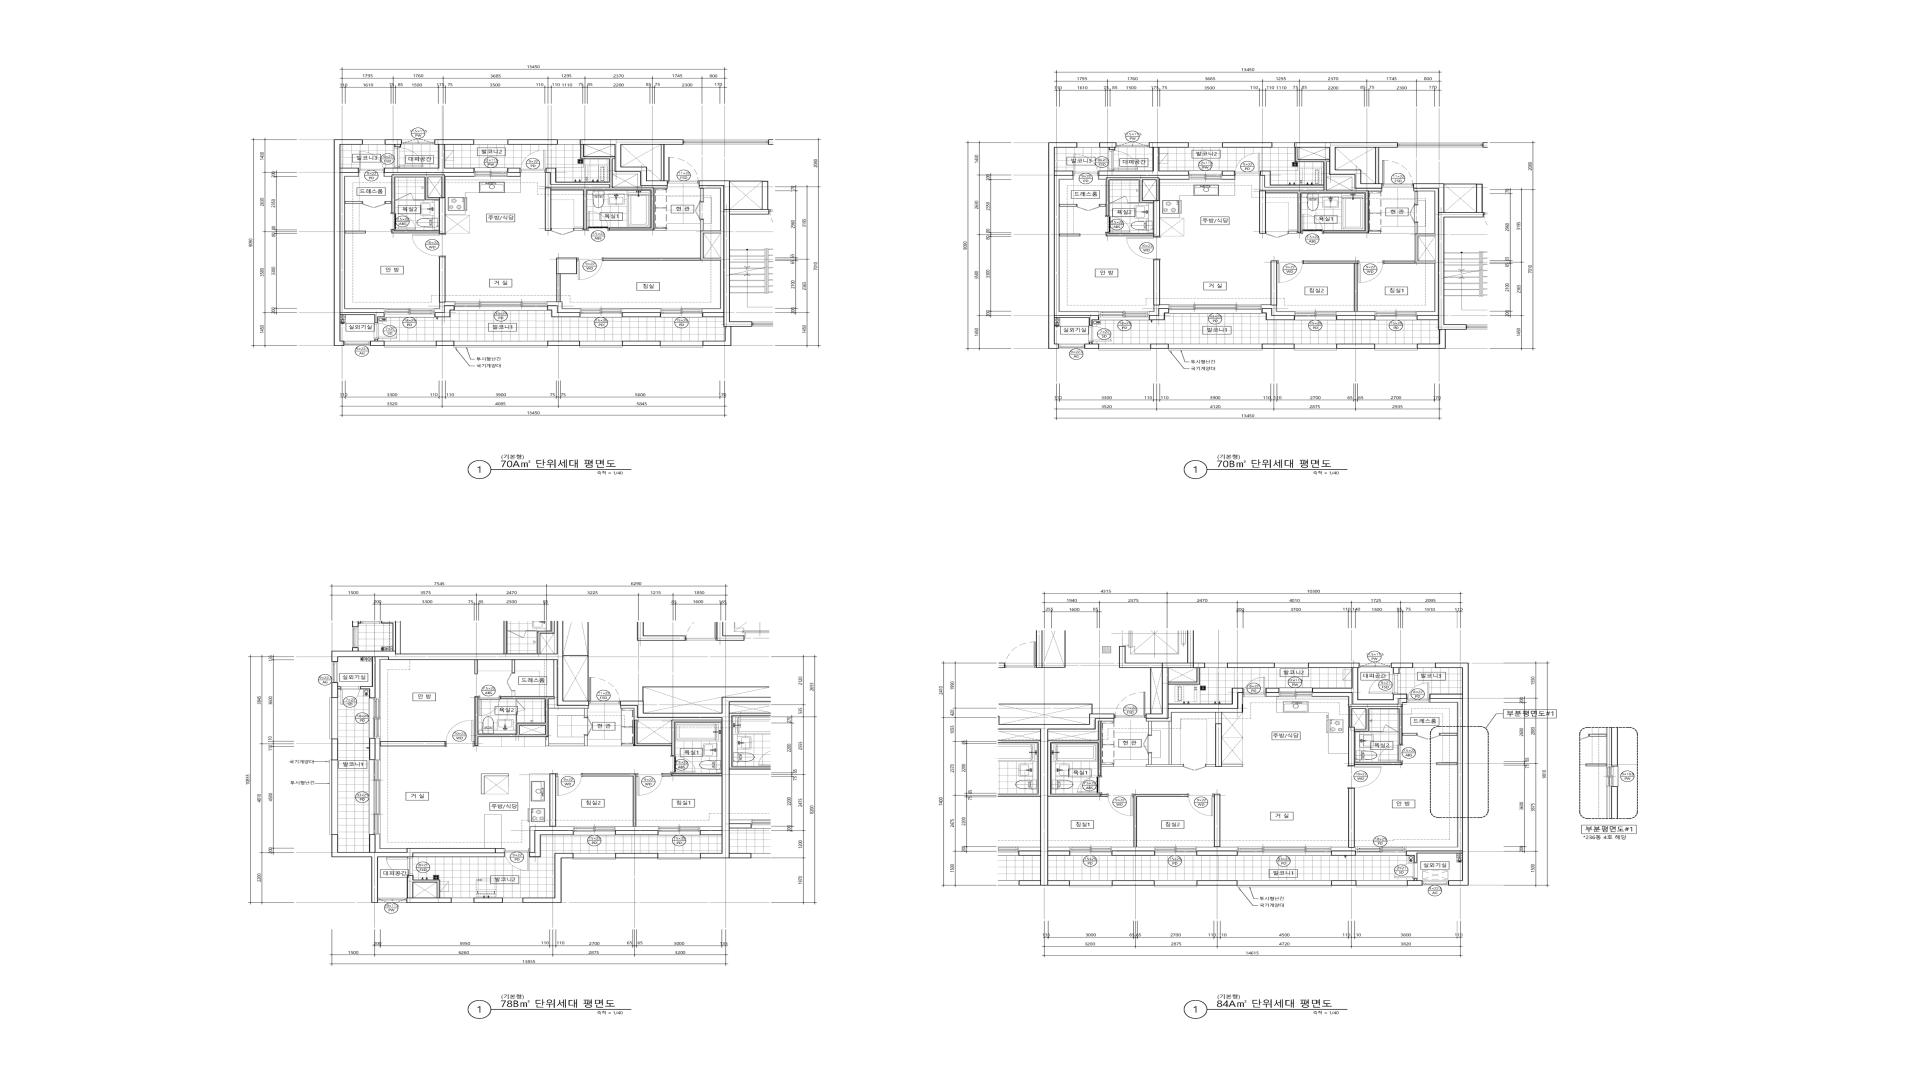door: (1382, 160, 1414, 187), (667, 157, 699, 183), (1126, 236, 1160, 260), (1114, 692, 1146, 717), (413, 233, 446, 257), (446, 720, 475, 746), (589, 678, 620, 703), (1349, 766, 1382, 789), (1109, 150, 1138, 171), (1369, 674, 1399, 694), (1188, 794, 1215, 816), (1108, 794, 1134, 816), (1234, 153, 1261, 175), (520, 150, 546, 173), (394, 148, 423, 167), (1358, 261, 1383, 284), (504, 848, 529, 870), (1278, 261, 1304, 282), (576, 258, 603, 280), (636, 774, 662, 795), (359, 152, 384, 173), (1073, 154, 1098, 175), (556, 774, 582, 795), (386, 857, 413, 876), (1407, 683, 1429, 703), (1244, 676, 1266, 696), (1302, 214, 1324, 233), (587, 211, 609, 231), (477, 696, 500, 716), (671, 756, 695, 774), (1378, 745, 1403, 762), (1077, 777, 1101, 794), (1106, 216, 1130, 233), (392, 214, 415, 229), (1395, 862, 1418, 878), (1089, 326, 1112, 342), (375, 323, 397, 339), (695, 200, 704, 220), (1416, 733, 1440, 740), (1077, 204, 1100, 211), (1266, 231, 1288, 237), (551, 228, 574, 235), (363, 202, 385, 208), (1143, 735, 1151, 753), (1410, 204, 1418, 223), (506, 673, 514, 691), (584, 717, 592, 736), (396, 193, 413, 200), (1183, 765, 1207, 770), (516, 699, 525, 712), (1110, 196, 1127, 203), (1383, 725, 1399, 732)
wall: (331, 621, 589, 705), (620, 698, 729, 858), (1406, 663, 1469, 886), (1040, 713, 1114, 886), (1259, 142, 1398, 233), (331, 835, 504, 903), (1414, 183, 1484, 349), (699, 181, 769, 345), (1048, 142, 1098, 349), (334, 140, 384, 345), (545, 145, 654, 231), (1120, 646, 1244, 719), (1406, 699, 1462, 851), (1146, 692, 1244, 766), (1055, 175, 1098, 315), (340, 173, 384, 313), (603, 220, 720, 261), (580, 140, 683, 186), (1308, 663, 1407, 704), (475, 696, 554, 746), (1349, 707, 1403, 766), (699, 186, 724, 313), (1106, 178, 1160, 236), (1414, 189, 1437, 315), (384, 140, 475, 173), (1098, 142, 1188, 175), (1134, 794, 1188, 847), (582, 774, 636, 827), (1303, 261, 1358, 311), (522, 853, 572, 903), (549, 659, 589, 717), (392, 174, 444, 214), (1327, 162, 1382, 191), (613, 160, 667, 187), (620, 705, 721, 720), (1312, 694, 1407, 707), (406, 876, 451, 903), (529, 831, 574, 857), (529, 827, 574, 852), (1259, 175, 1324, 191), (1048, 719, 1114, 732), (481, 774, 509, 794), (376, 835, 406, 852), (376, 657, 388, 699), (546, 736, 587, 746), (1419, 236, 1436, 261), (1262, 309, 1295, 320), (1168, 669, 1197, 682), (413, 882, 436, 898), (413, 853, 504, 857), (384, 173, 475, 177), (1098, 175, 1188, 179), (1262, 305, 1295, 315), (547, 306, 580, 316), (547, 302, 580, 313), (550, 774, 556, 827), (380, 741, 446, 746), (556, 257, 576, 274), (1349, 789, 1354, 848), (1154, 260, 1160, 306), (1271, 261, 1278, 306), (439, 257, 446, 302), (1352, 709, 1366, 729), (1142, 181, 1156, 200), (1215, 794, 1220, 847), (1216, 724, 1222, 766), (508, 140, 558, 145), (1222, 142, 1273, 148), (1228, 663, 1275, 669), (1391, 663, 1414, 674), (439, 198, 446, 233), (1149, 309, 1168, 320), (1112, 851, 1155, 856), (1112, 881, 1154, 886), (616, 853, 658, 858), (1196, 851, 1237, 856), (1197, 881, 1237, 886), (1336, 315, 1375, 320), (1149, 305, 1168, 315), (435, 306, 455, 316), (435, 302, 455, 313), (1337, 344, 1375, 349), (392, 229, 439, 233), (1112, 847, 1155, 851), (615, 827, 658, 831), (615, 831, 658, 835), (1262, 344, 1294, 349), (1196, 847, 1237, 851), (1336, 311, 1375, 315), (473, 898, 502, 903), (622, 309, 661, 313), (622, 342, 661, 345), (622, 313, 661, 316), (1375, 148, 1379, 183), (661, 145, 665, 181), (331, 738, 338, 760), (369, 738, 376, 760), (385, 140, 402, 148), (1100, 142, 1117, 150), (331, 683, 340, 698), (1332, 881, 1356, 886), (1407, 878, 1423, 886), (1332, 851, 1356, 856), (547, 342, 579, 345), (1084, 342, 1098, 349), (508, 167, 520, 177), (556, 274, 560, 302), (1332, 847, 1356, 851), (1151, 344, 1168, 349), (371, 339, 384, 345), (1048, 847, 1069, 851), (376, 738, 380, 760), (700, 827, 721, 831), (1383, 261, 1415, 264), (436, 342, 454, 345), (1150, 669, 1151, 713), (1266, 688, 1279, 692), (1266, 692, 1279, 696), (345, 231, 365, 233), (700, 189, 704, 202), (1222, 175, 1234, 179), (1222, 171, 1234, 175), (345, 202, 363, 204), (1444, 183, 1477, 185), (731, 181, 762, 182), (475, 659, 477, 674), (1403, 733, 1416, 736), (621, 744, 634, 746), (512, 659, 514, 673), (1369, 231, 1381, 233), (654, 228, 666, 231), (1222, 765, 1244, 766), (574, 228, 584, 231), (1288, 231, 1298, 233), (1101, 765, 1114, 766), (1100, 204, 1106, 207), (385, 202, 392, 204), (413, 199, 425, 200), (512, 691, 514, 696), (516, 712, 517, 723), (1207, 765, 1216, 766), (1370, 732, 1383, 732), (1127, 203, 1139, 203)
window: (1237, 847, 1332, 856), (1168, 305, 1262, 314), (369, 760, 380, 835), (455, 302, 547, 310), (1237, 881, 1332, 887), (1168, 344, 1262, 351), (454, 342, 547, 348), (330, 760, 338, 835), (384, 309, 435, 318), (1356, 847, 1406, 856), (1098, 311, 1149, 320), (369, 698, 380, 738), (1069, 847, 1112, 856), (1375, 311, 1418, 320), (1295, 311, 1337, 320), (661, 309, 703, 318), (580, 309, 622, 318), (1155, 847, 1196, 856), (1098, 344, 1151, 351), (384, 342, 436, 348), (1356, 881, 1407, 887), (658, 827, 700, 835), (574, 827, 615, 835), (330, 698, 338, 738), (475, 167, 508, 177), (1154, 881, 1197, 887), (1294, 344, 1337, 351), (1374, 344, 1418, 351), (579, 342, 622, 348), (572, 853, 616, 860), (1069, 881, 1112, 887), (661, 342, 703, 348), (658, 853, 700, 860), (1188, 171, 1222, 179), (1279, 688, 1312, 696), (1117, 141, 1149, 148), (402, 138, 434, 145), (378, 898, 407, 905), (1188, 142, 1222, 148), (473, 140, 508, 145), (1275, 663, 1308, 669), (1360, 662, 1391, 667), (331, 662, 338, 683), (1059, 344, 1084, 349), (451, 898, 473, 903), (1077, 142, 1100, 148), (1273, 142, 1295, 148), (363, 140, 385, 145), (558, 140, 580, 145), (502, 898, 522, 903), (344, 342, 371, 345), (1423, 881, 1448, 885), (1205, 663, 1228, 667), (1414, 663, 1435, 667)
